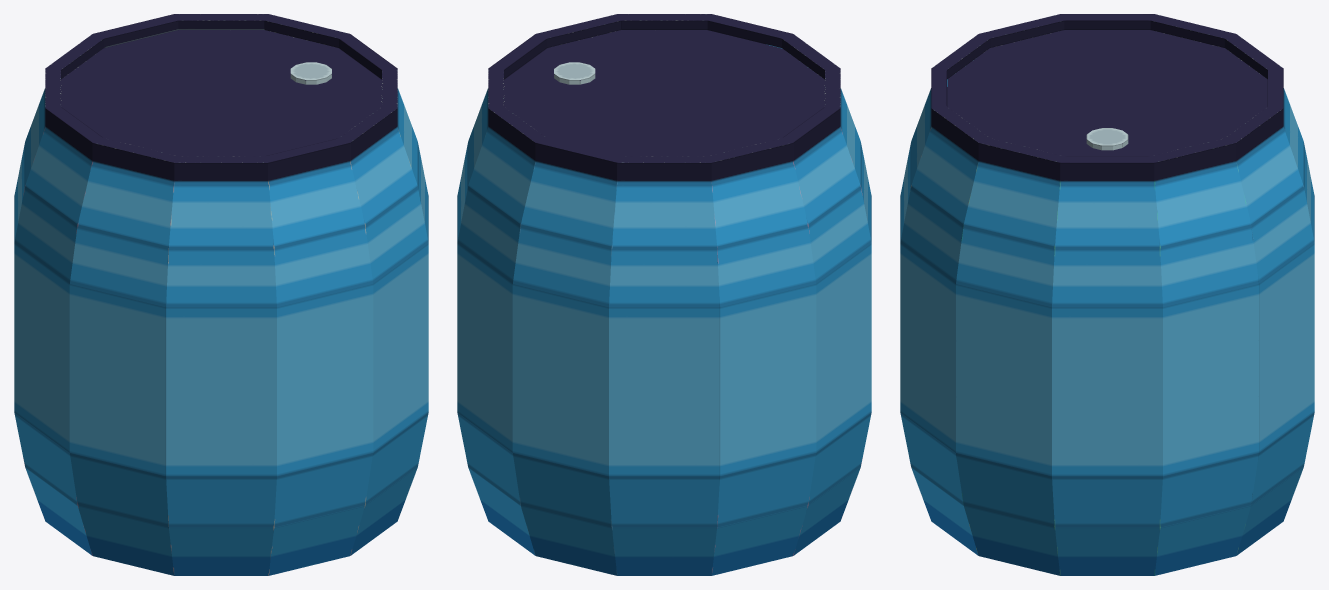
File: Barrel.fbx
The picture shows the model from 3 angles, left to right: view 1: azimuth 30°, elevation 25°; view 2: azimuth 150°, elevation 25°; view 3: azimuth 270°, elevation 25°; orthographic projection.
Parts seen in each view (by area): view 1: cylinder, cylinder_1; view 2: cylinder, cylinder_1; view 3: cylinder, cylinder_1.
Boxes of the visible parts, bbox=[...] form: cylinder: bbox=[14, 14, 428, 575]; cylinder_1: bbox=[290, 62, 331, 84]; cylinder: bbox=[457, 14, 871, 575]; cylinder_1: bbox=[554, 62, 595, 84]; cylinder: bbox=[900, 14, 1314, 575]; cylinder_1: bbox=[1086, 128, 1128, 150].
Size of the model in its own units: 250 by 275 by 250.
Materials: 1 (1 with a texture image).
